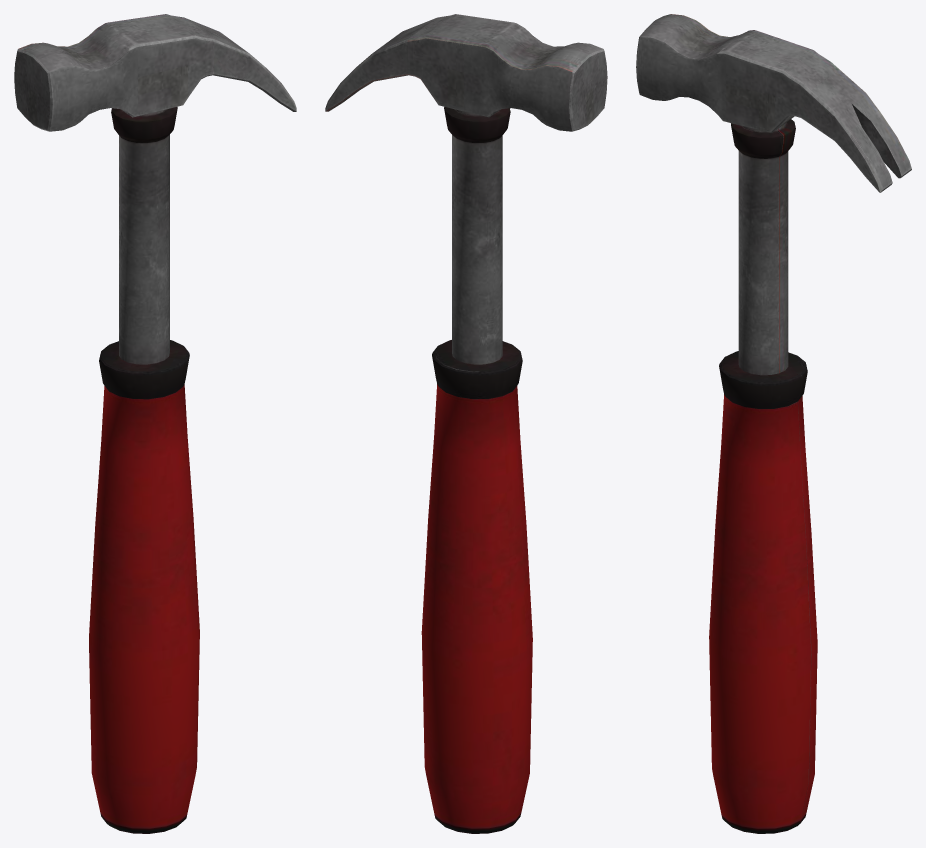
Rendered from mp_hammer.glb.
3 views of the same model, side by side, from view 1: azimuth 30°, elevation 25°; view 2: azimuth 150°, elevation 25°; view 3: azimuth 330°, elevation 25° (orthographic). The views are drawn at different scales.
Visible parts, largest first — view 1: Hammer; view 2: Hammer; view 3: Hammer.
Part boxes in pixels (left/top/right/bottom): Hammer: left=14, top=14, right=296, bottom=833; Hammer: left=325, top=14, right=607, bottom=833; Hammer: left=636, top=14, right=911, bottom=833.
Size of the model in its own units: 0.1184 by 0.36 by 0.0446.
1 material, 1 textured.
